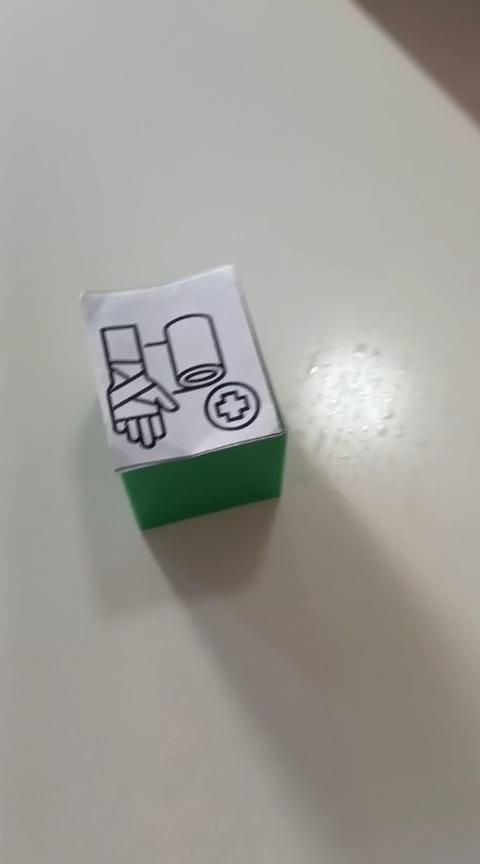Bandages: (79, 262, 288, 531)
